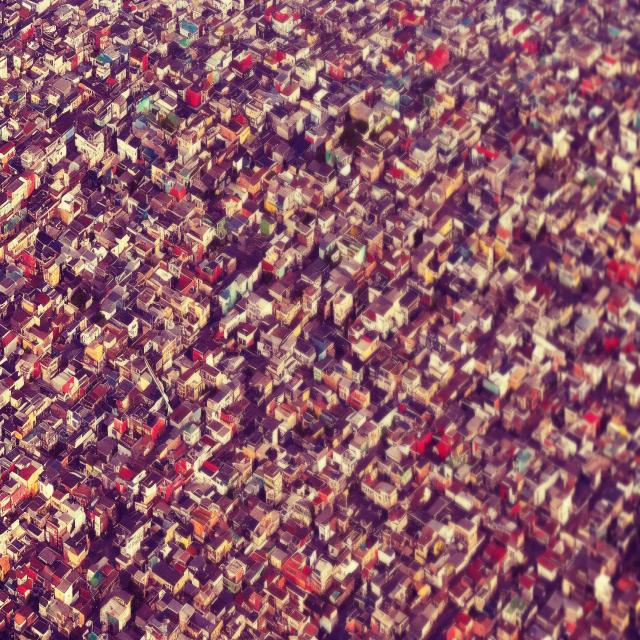airplane: (144, 355, 174, 418)
